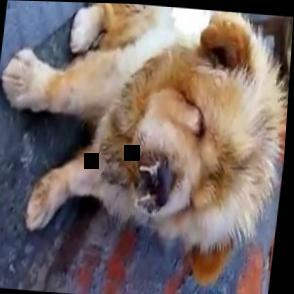nasal_discharge: (135, 160, 175, 209)
